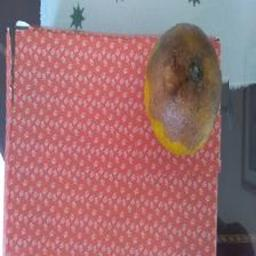Orange Rotten: (134, 8, 230, 179)
